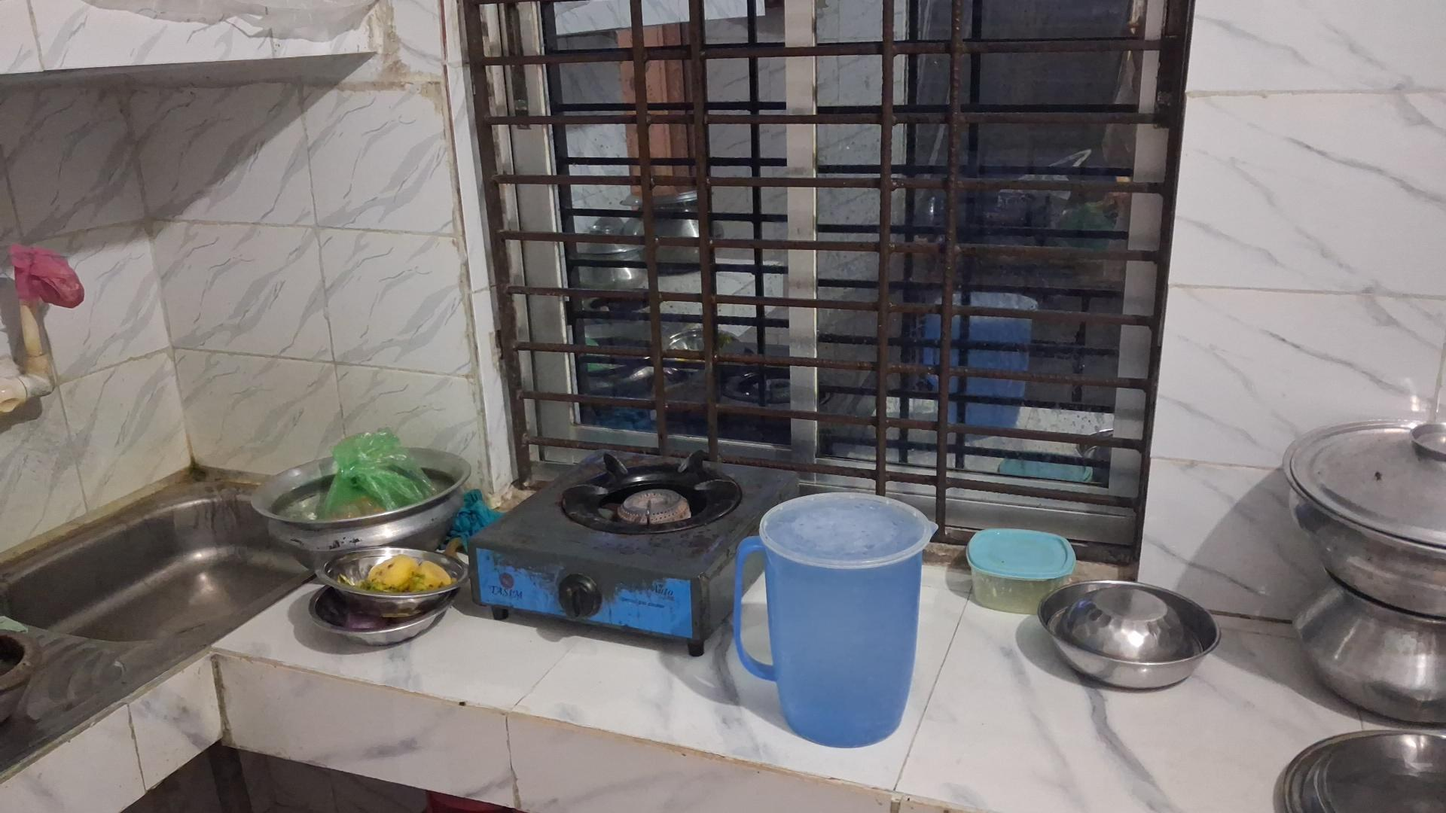Bowl: (251, 443, 474, 562), (1037, 579, 1220, 692), (306, 546, 468, 646), (314, 546, 465, 620)
Jar: (966, 528, 1077, 615)
Jug: (733, 497, 935, 741)
Pot: (1288, 404, 1446, 620), (1293, 578, 1444, 733)
Window: (457, 2, 1197, 581)
